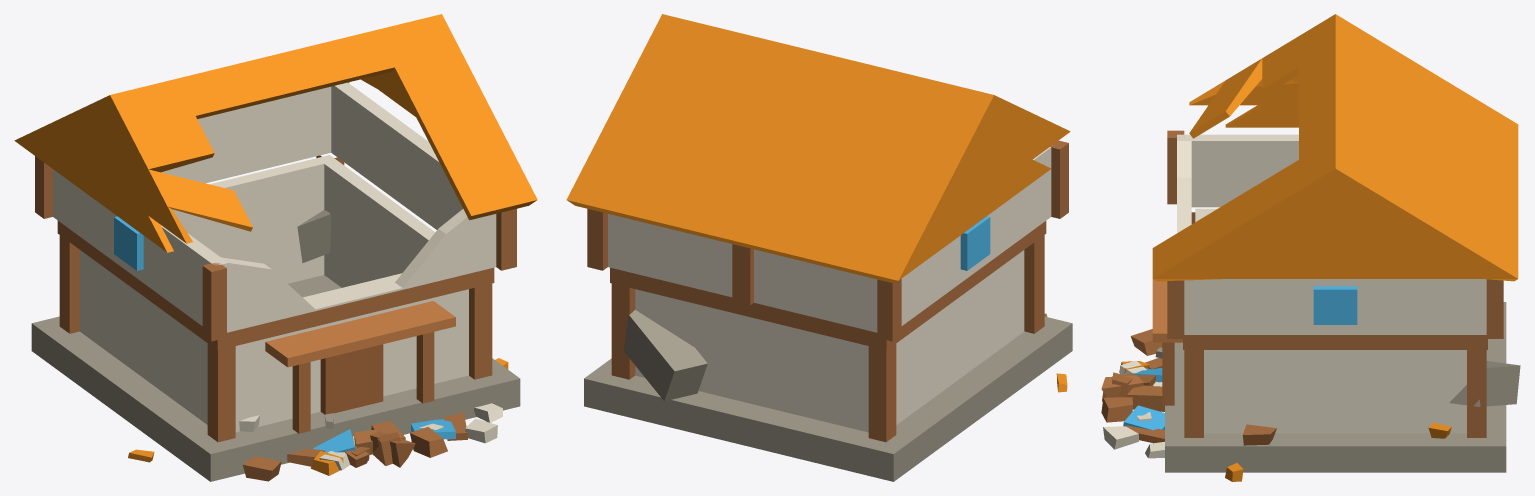
Rendered from house_t2_v4_dmg1.glb.
3 renders of one model, left to right at view 1: azimuth 30°, elevation 25°; view 2: azimuth 150°, elevation 25°; view 3: azimuth 270°, elevation 25°, orthographic. The views are drawn at different scales.
Parts seen in each view (by area): view 1: house_t2_v4_dmg1; view 2: house_t2_v4_dmg1; view 3: house_t2_v4_dmg1.
Part boxes in pixels (x1,y1,x2,y2): house_t2_v4_dmg1: [14, 14, 537, 481]; house_t2_v4_dmg1: [566, 14, 1072, 481]; house_t2_v4_dmg1: [1101, 14, 1520, 481].
Bounding box in the file's own units: 0.8403 × 0.7 × 0.8595.
Materials: 1 (1 with a texture image).
